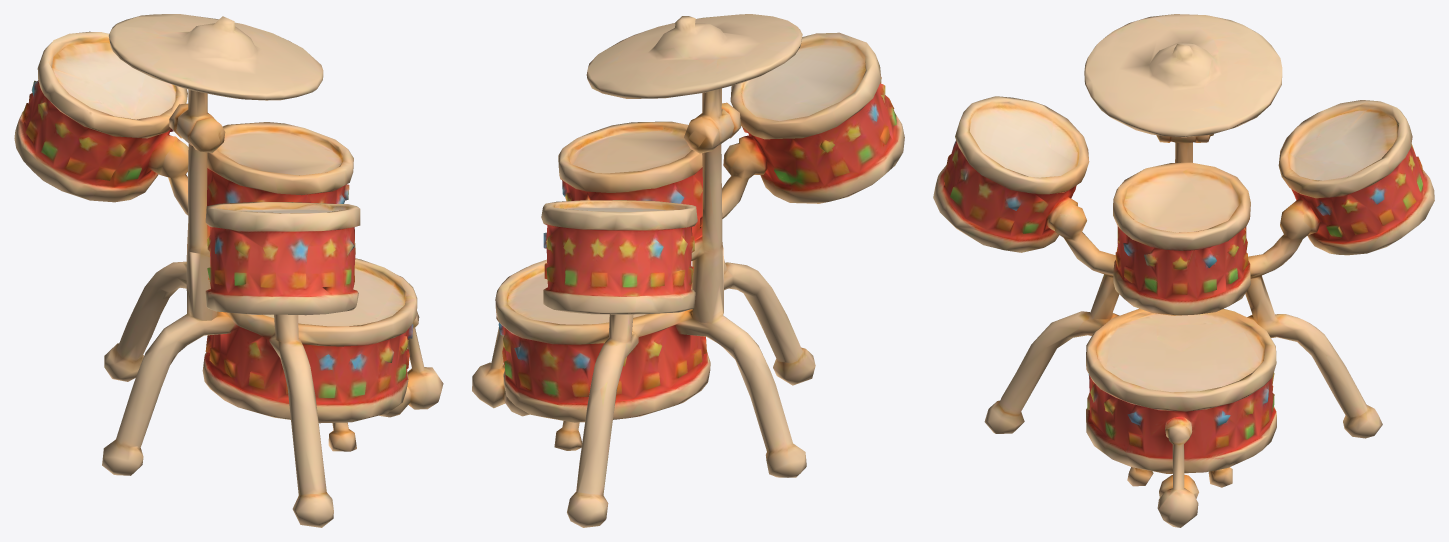
Rendered from drum_set.glb.
3 renders of one model, left to right at view 1: azimuth 30°, elevation 25°; view 2: azimuth 150°, elevation 25°; view 3: azimuth 270°, elevation 25°, orthographic. The views are drawn at different scales.
Parts seen in each view (by area): view 1: tripo_node_2de79132-cd1b-445d-a05b-2b5fe7d9110f; view 2: tripo_node_2de79132-cd1b-445d-a05b-2b5fe7d9110f; view 3: tripo_node_2de79132-cd1b-445d-a05b-2b5fe7d9110f.
Part boxes in pixels (x1,y1,x2,y2): tripo_node_2de79132-cd1b-445d-a05b-2b5fe7d9110f: [14, 14, 443, 527]; tripo_node_2de79132-cd1b-445d-a05b-2b5fe7d9110f: [472, 14, 904, 527]; tripo_node_2de79132-cd1b-445d-a05b-2b5fe7d9110f: [933, 14, 1434, 527].
Size of the model in its own units: 0.2391 by 0.3 by 0.3457.
1 material, 1 textured.
